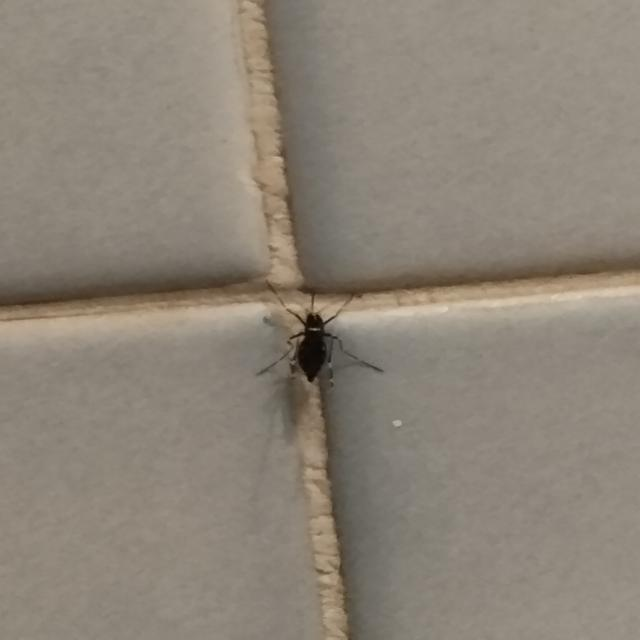albopictus: (250, 277, 387, 391)
